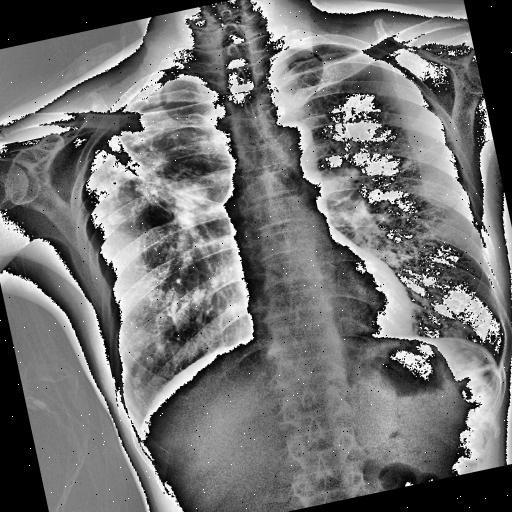0- Aortic enlargement: (268, 118, 318, 164)
11- Pleural thickening: (72, 68, 204, 159), (82, 78, 176, 152)
13- Pulmonary fibrosis: (92, 96, 230, 262), (92, 96, 220, 230), (98, 123, 204, 232), (389, 138, 448, 182), (392, 142, 454, 174)
8- Nodule-Mass: (128, 348, 146, 360), (142, 354, 156, 364), (134, 338, 145, 345)
